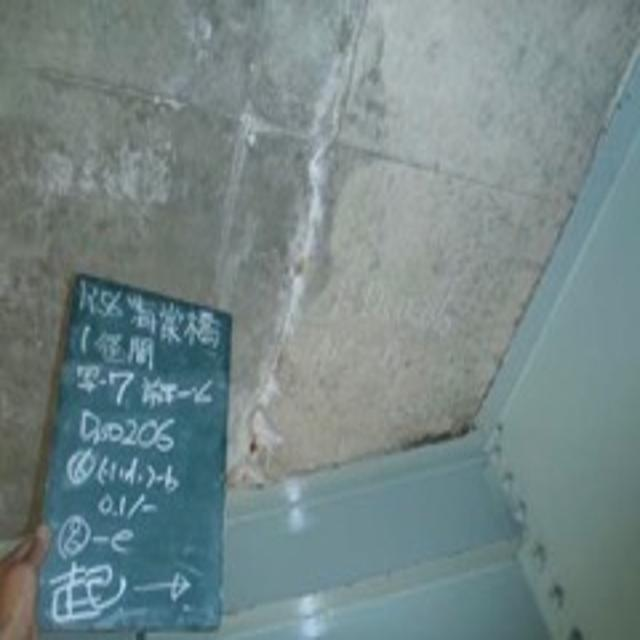freelime: (246, 106, 323, 486)
